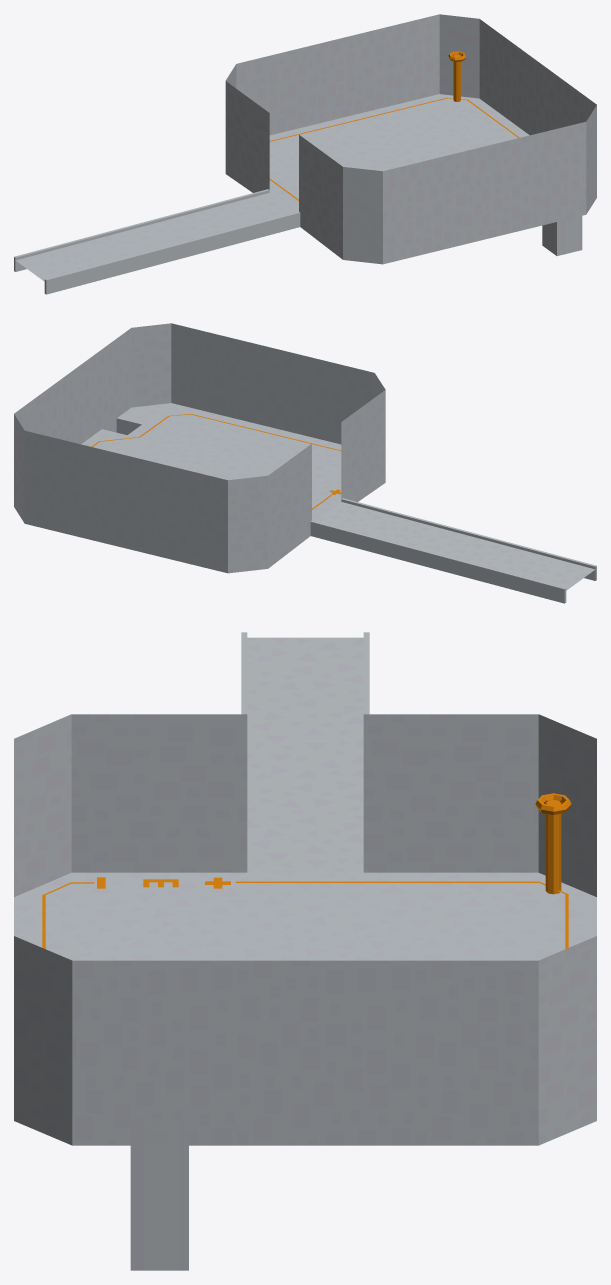
Rendered from lightening_hut.glb.
The picture shows the model from 3 angles, top to bottom: view 1: azimuth 30°, elevation 25°; view 2: azimuth 150°, elevation 25°; view 3: azimuth 270°, elevation 25°; orthographic projection. The views are drawn at different scales.
Parts seen in each view (by area): view 1: lightening_hut; view 2: lightening_hut; view 3: lightening_hut.
Part boxes in pixels (x1,y1,x2,y2): lightening_hut: (14, 14, 596, 294); lightening_hut: (14, 323, 596, 603); lightening_hut: (14, 632, 596, 1270).
Bounding box in the file's own units: 20 × 5.87 × 10.
Materials: 4 (3 with a texture image).
